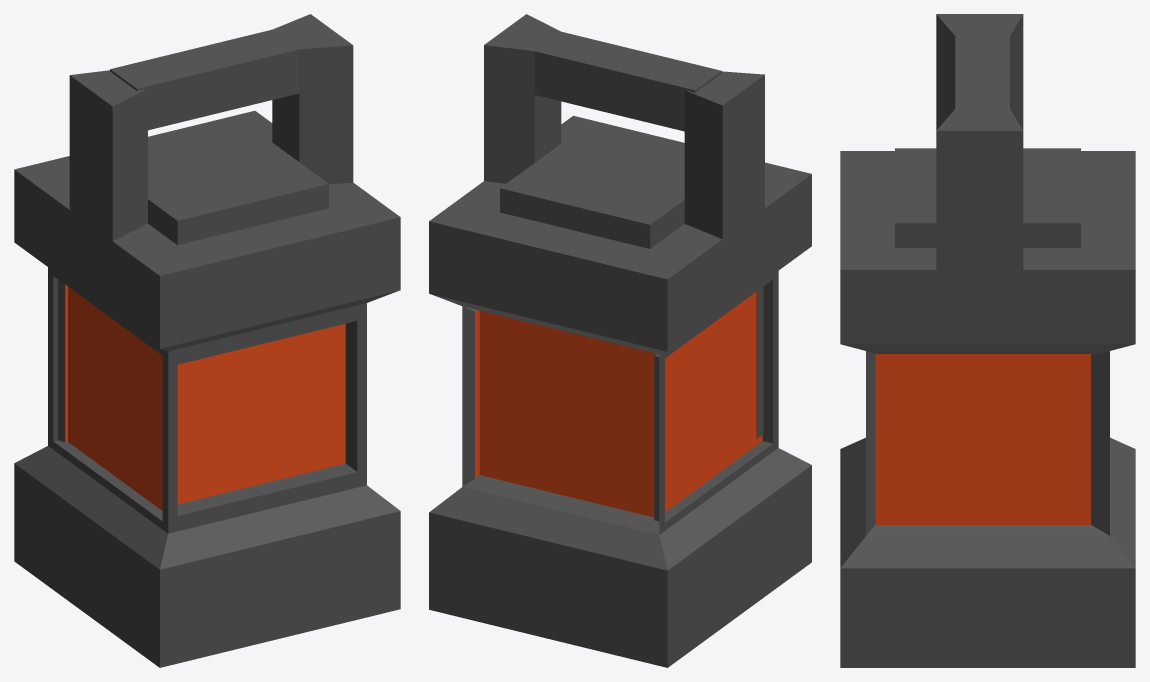
Rendered from lampara.fbx.
3 views of the same model, side by side, from view 1: azimuth 30°, elevation 25°; view 2: azimuth 150°, elevation 25°; view 3: azimuth 270°, elevation 25° (orthographic). The views are drawn at different scales.
Visible parts, largest first — view 1: Cube; view 2: Cube; view 3: Cube.
Boxes of the visible parts, x1,y1,x2,y2 form: Cube: (14,14,400,667); Cube: (429,14,811,667); Cube: (840,14,1135,667).
Bounding box in the file's own units: 53.16 × 112 × 55.66.
